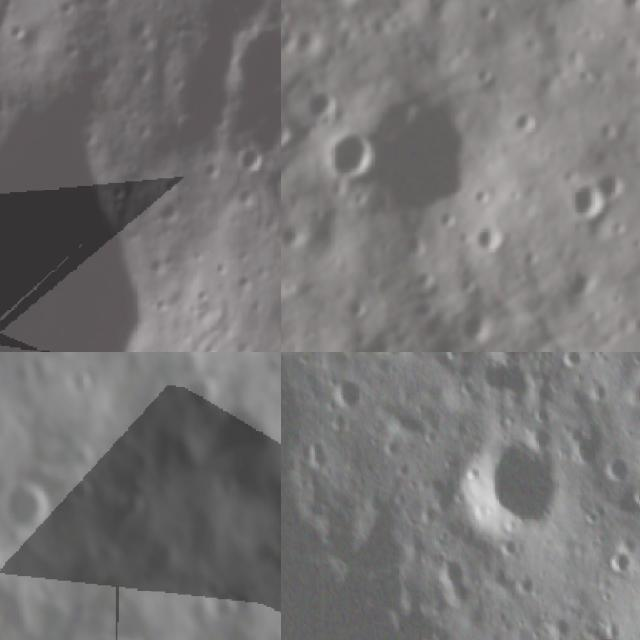crater: (0, 49, 210, 352), (324, 61, 526, 259), (281, 292, 556, 352), (470, 433, 571, 545), (217, 2, 281, 108), (312, 122, 388, 197), (289, 71, 354, 136), (554, 174, 614, 234), (285, 0, 391, 32), (0, 475, 58, 533), (482, 353, 542, 408), (461, 210, 516, 266), (448, 303, 502, 352), (229, 135, 281, 182), (583, 163, 630, 211), (172, 370, 215, 422), (108, 484, 156, 530), (58, 470, 103, 513), (498, 100, 542, 142), (204, 468, 249, 508), (326, 368, 365, 414), (281, 209, 317, 258), (566, 425, 607, 466), (246, 530, 281, 578), (604, 451, 638, 494), (281, 108, 303, 167), (63, 627, 157, 640), (67, 364, 100, 398), (467, 64, 499, 96), (208, 592, 241, 623), (26, 568, 56, 602), (281, 25, 305, 62), (606, 547, 636, 574), (615, 0, 640, 18), (634, 480, 640, 512)
